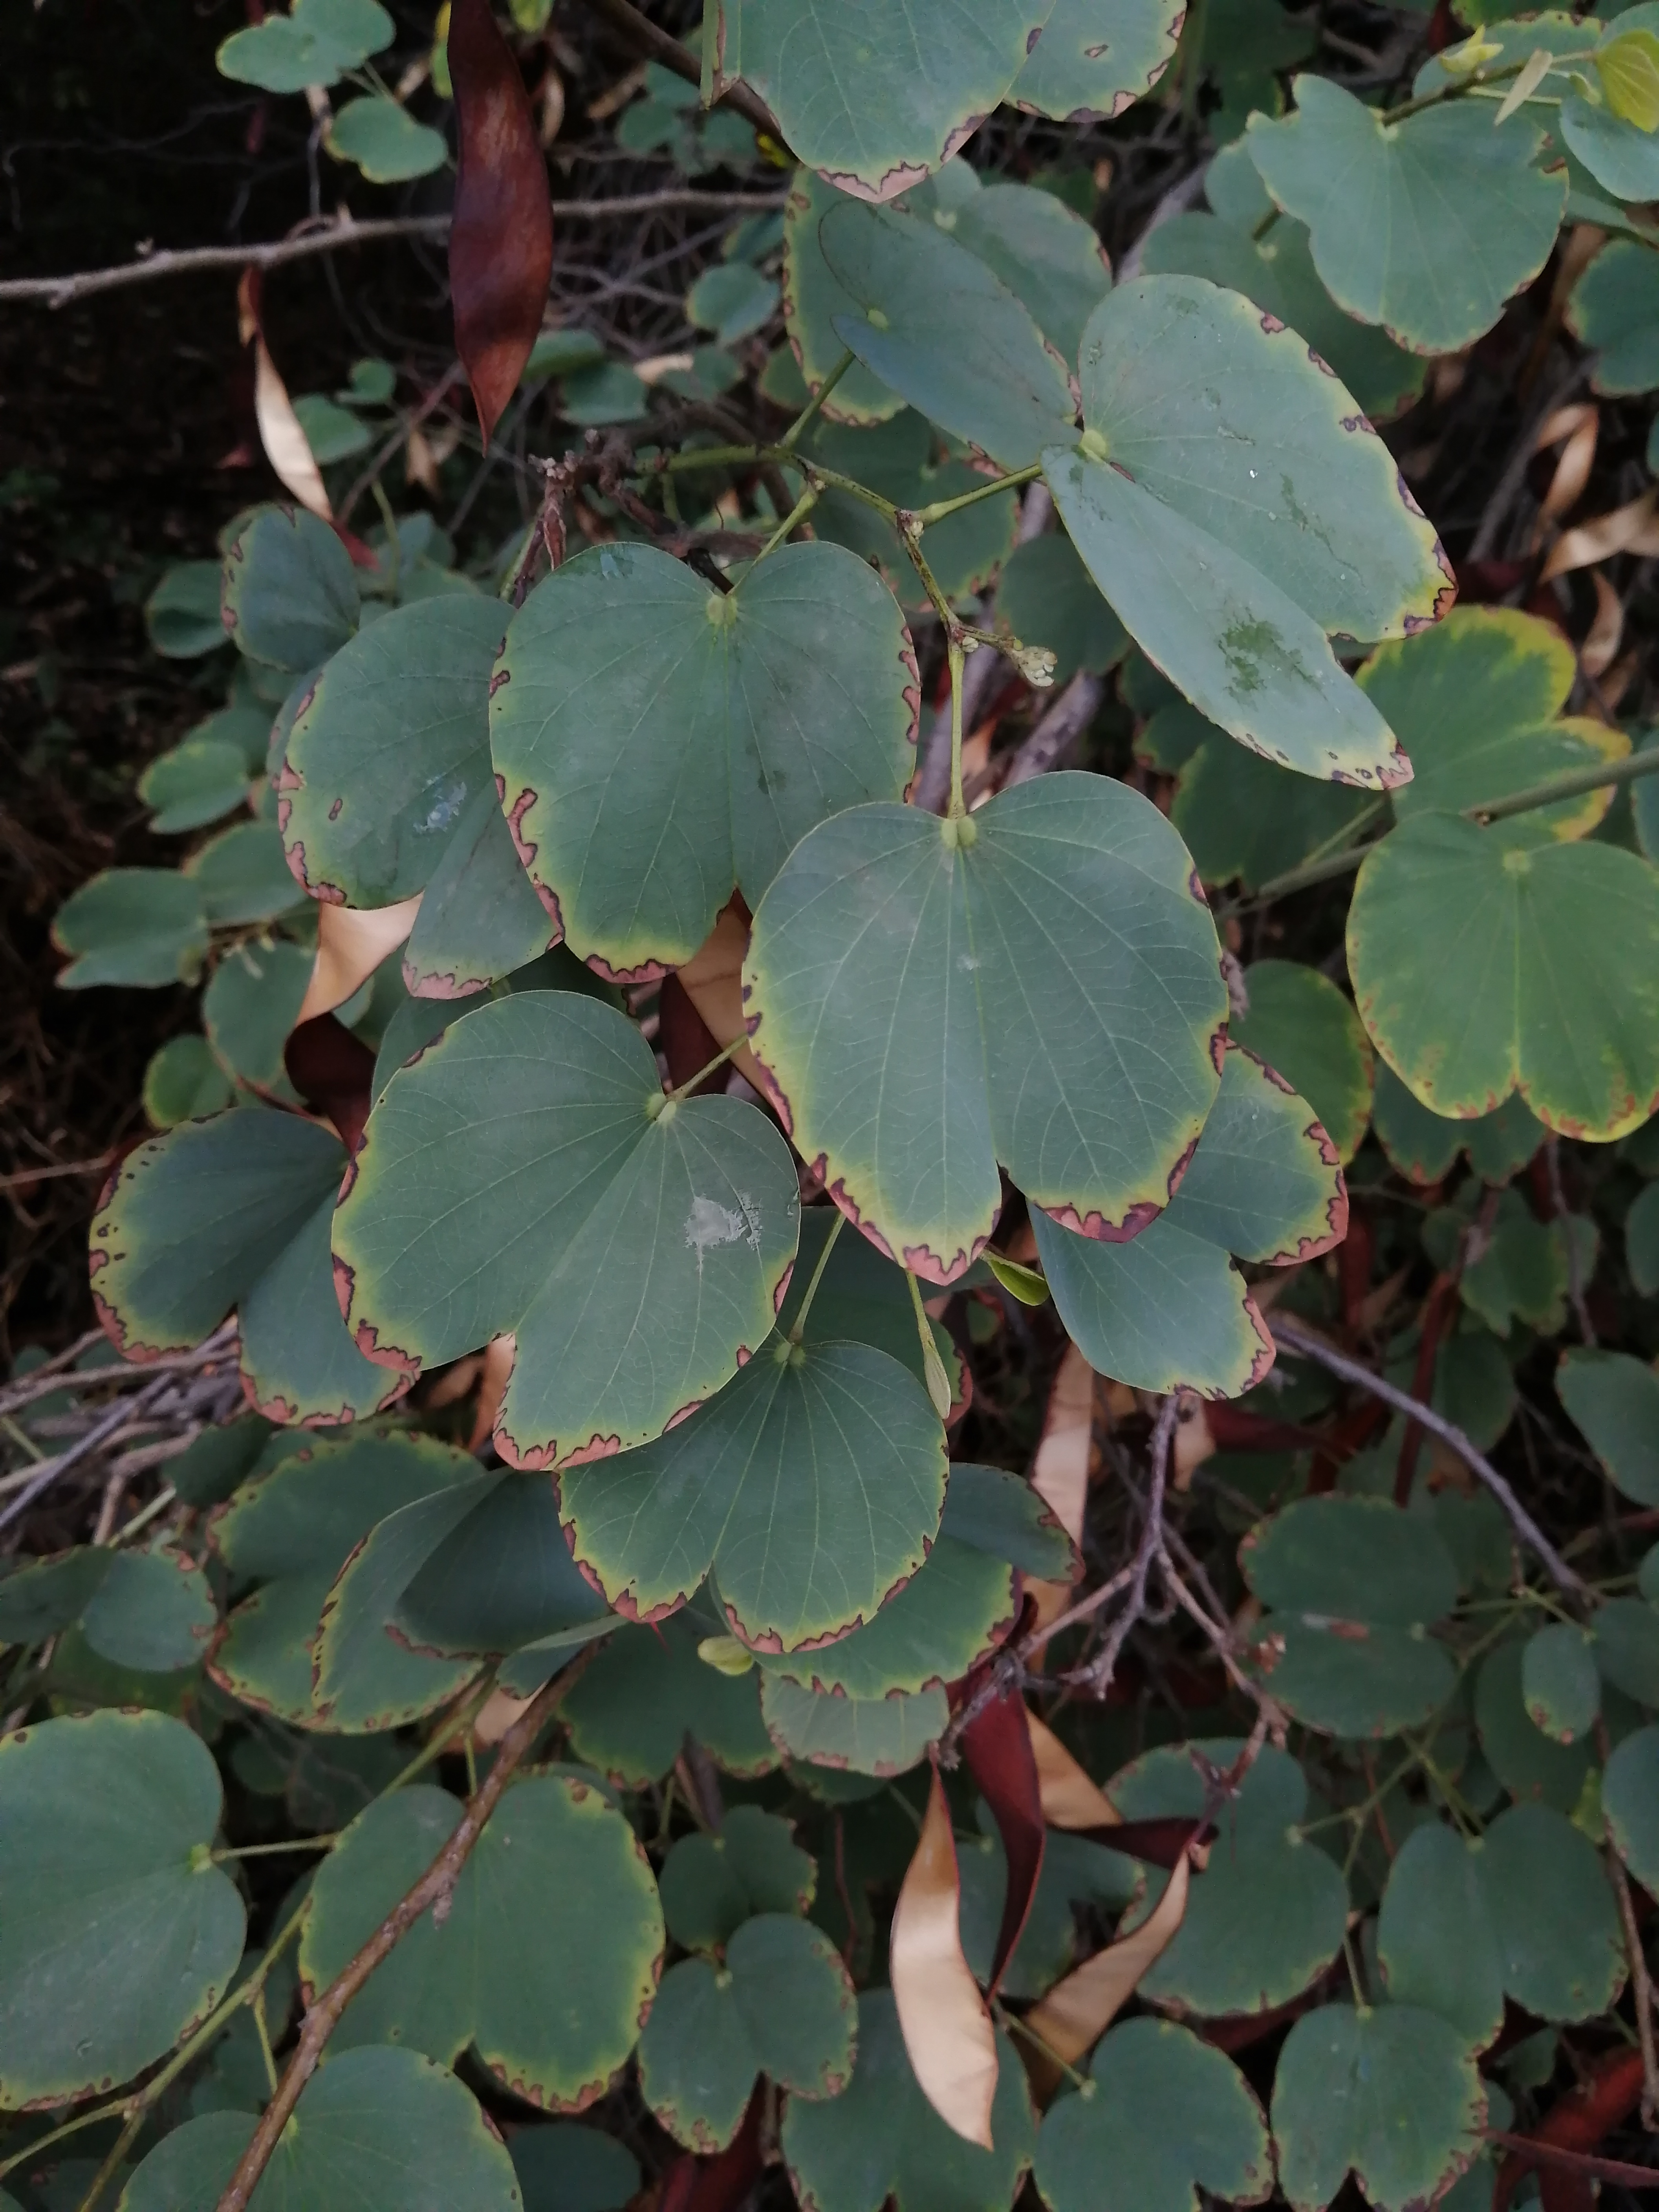nothealthy: (317, 963, 833, 1482), (720, 763, 1208, 1292), (462, 533, 948, 995), (1047, 268, 1459, 801), (983, 1017, 1385, 1407), (519, 1315, 971, 1646), (279, 1747, 687, 2104), (286, 573, 582, 1033), (87, 1076, 389, 1470), (1337, 801, 1649, 1148), (1230, 61, 1588, 355)
